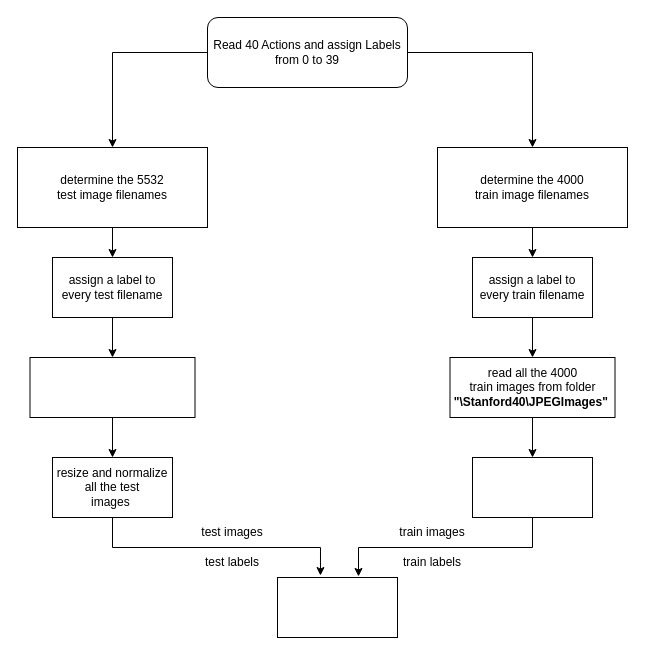
The diagram is 645 pixels wide and 655 high, and some of its shapes have lost their labels. Here are the shapes that lost their labels. From the top down, the box of each, then its label:
(29, 356, 195, 418): read all the 5532 train images from folder "\Stanford40\JPEGImages"
(472, 456, 592, 518): resize and normalize all the train images
(276, 576, 398, 638): Train and validate the CNN model
